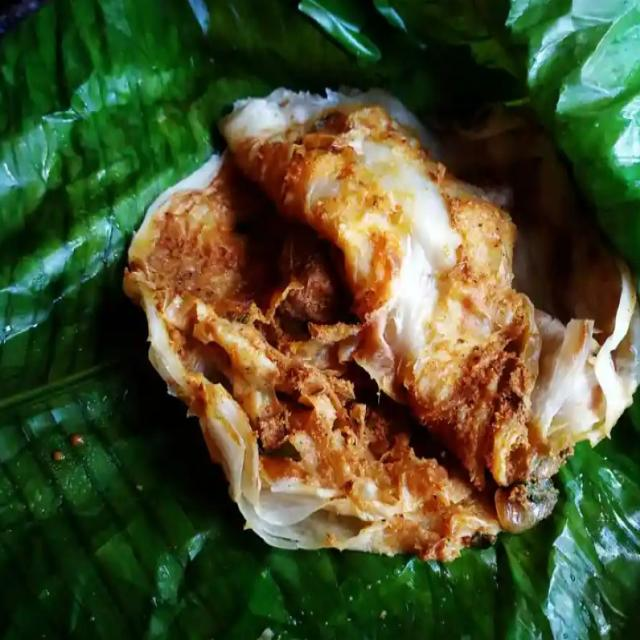PAROTTA: (123, 82, 639, 562)
